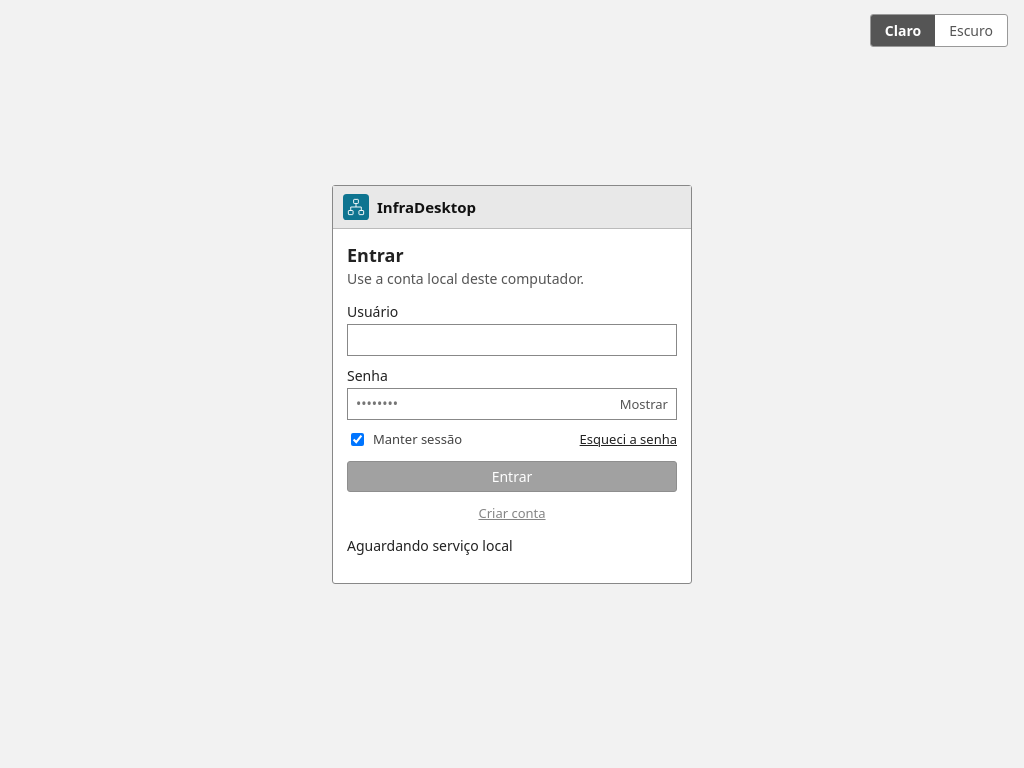
it: shows ADMIN_AUTH_UNAVAILABLE clearly without exposing a technical error
Click the button with aria-label "Recuperar acesso": (628, 439) [580,430,677,448]
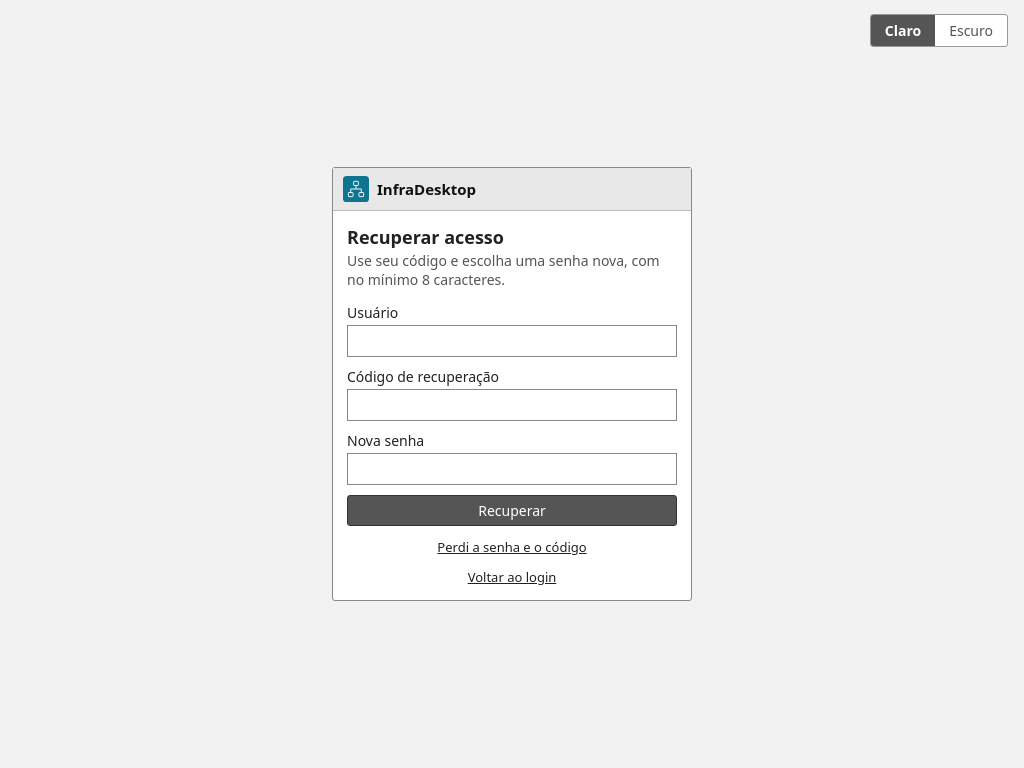
Click the button "Perdi a senha e o código": (512, 547) [437,538,587,556]
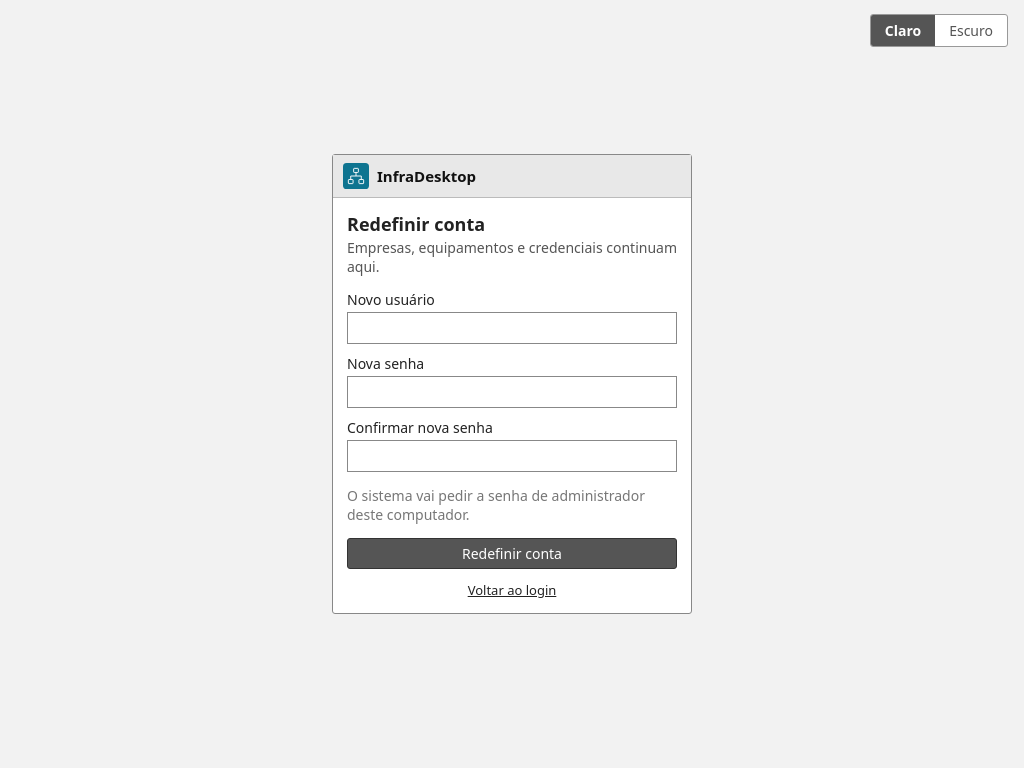
Result: the heading "Redefinir conta" is shown at [347,212,485,236]
In the field labelled "Novo usuário": (512, 328) [347,312,677,344], type "synthetic"
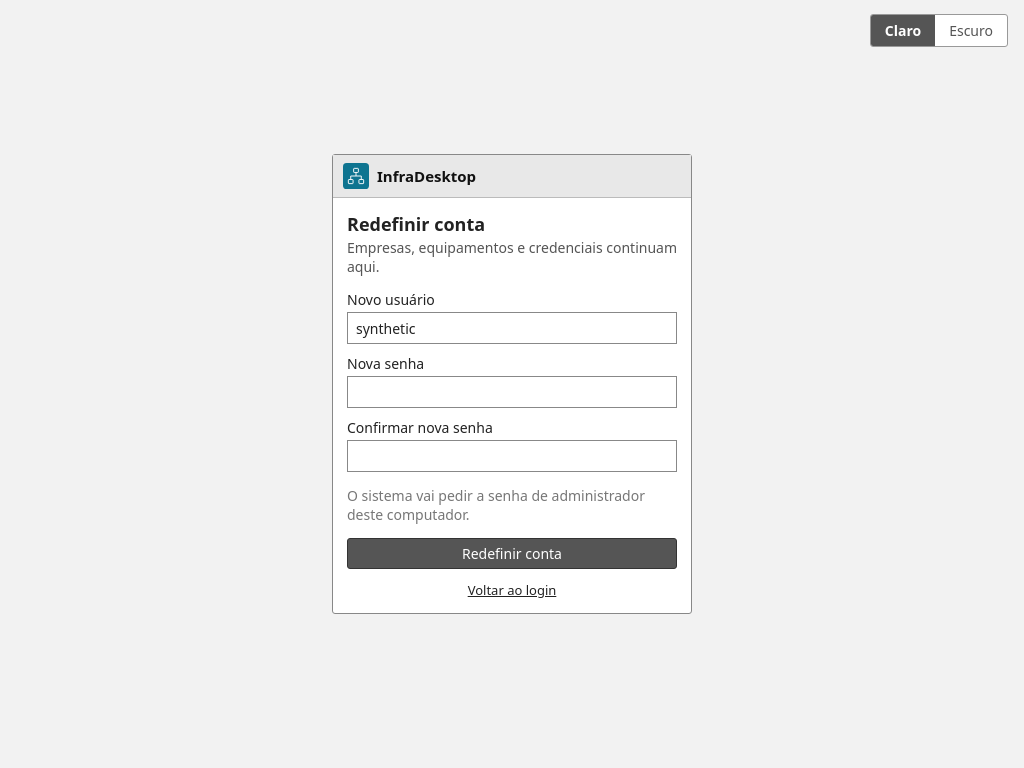
In the password field labelled "Nova senha": (512, 392) [347,376,677,408], type "synthetic account password"
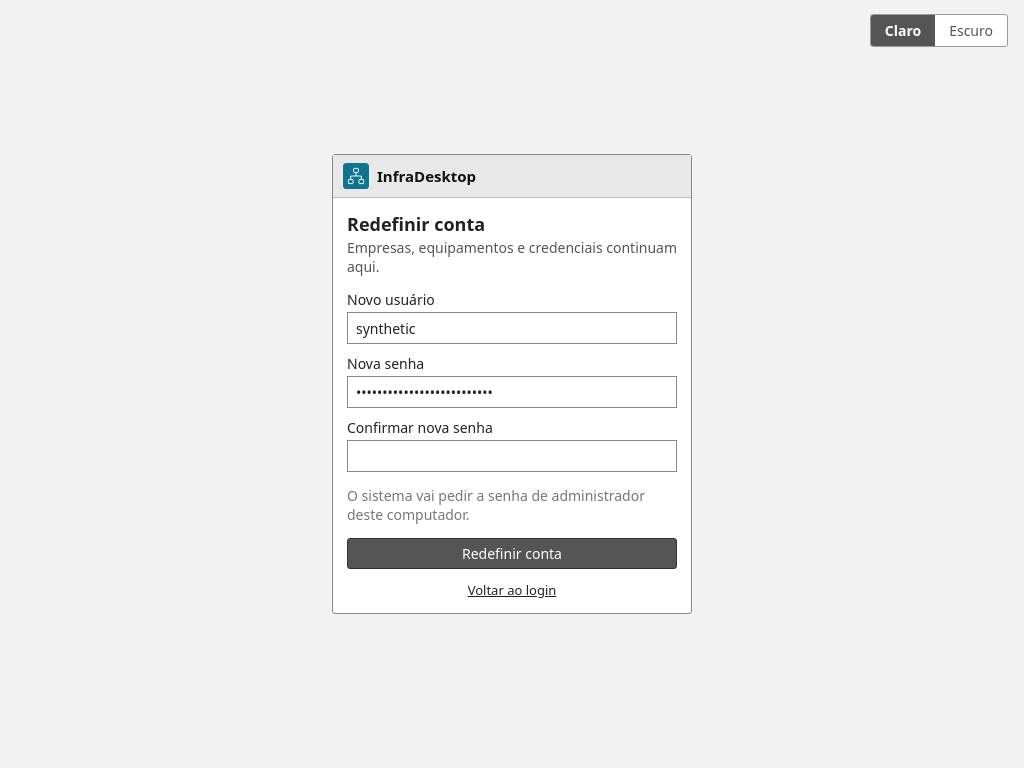
In the password field labelled "Confirmar nova senha": (512, 456) [347,440,677,472], type "synthetic account password"
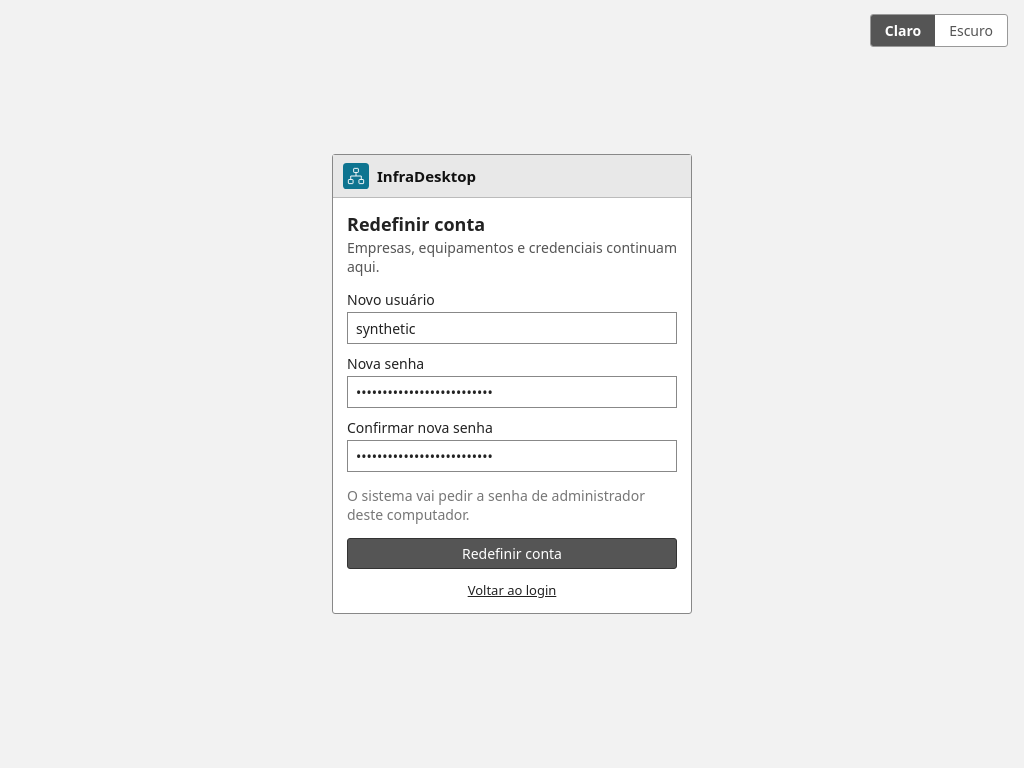
Click the button "Redefinir conta": (512, 554) [347,538,677,569]
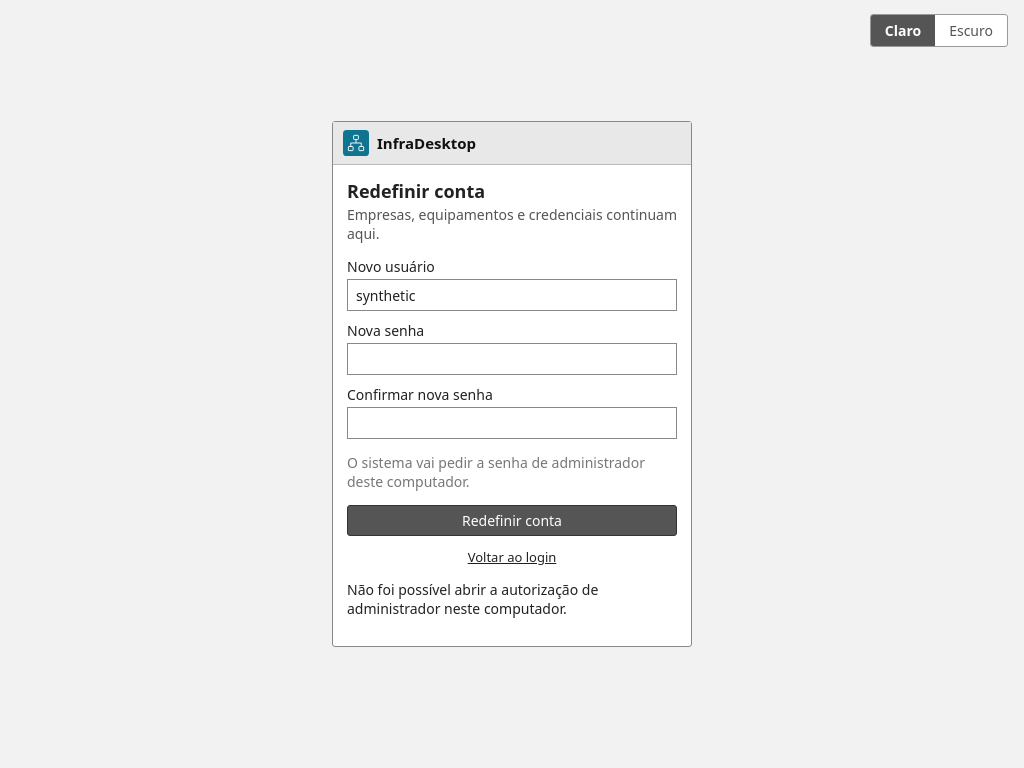
Result: the message reads "Não foi possível abrir a autorização de administrador neste computador." at [347,580,598,618]
Result: the password field labelled "Nova senha" is empty at [347,343,677,375]
